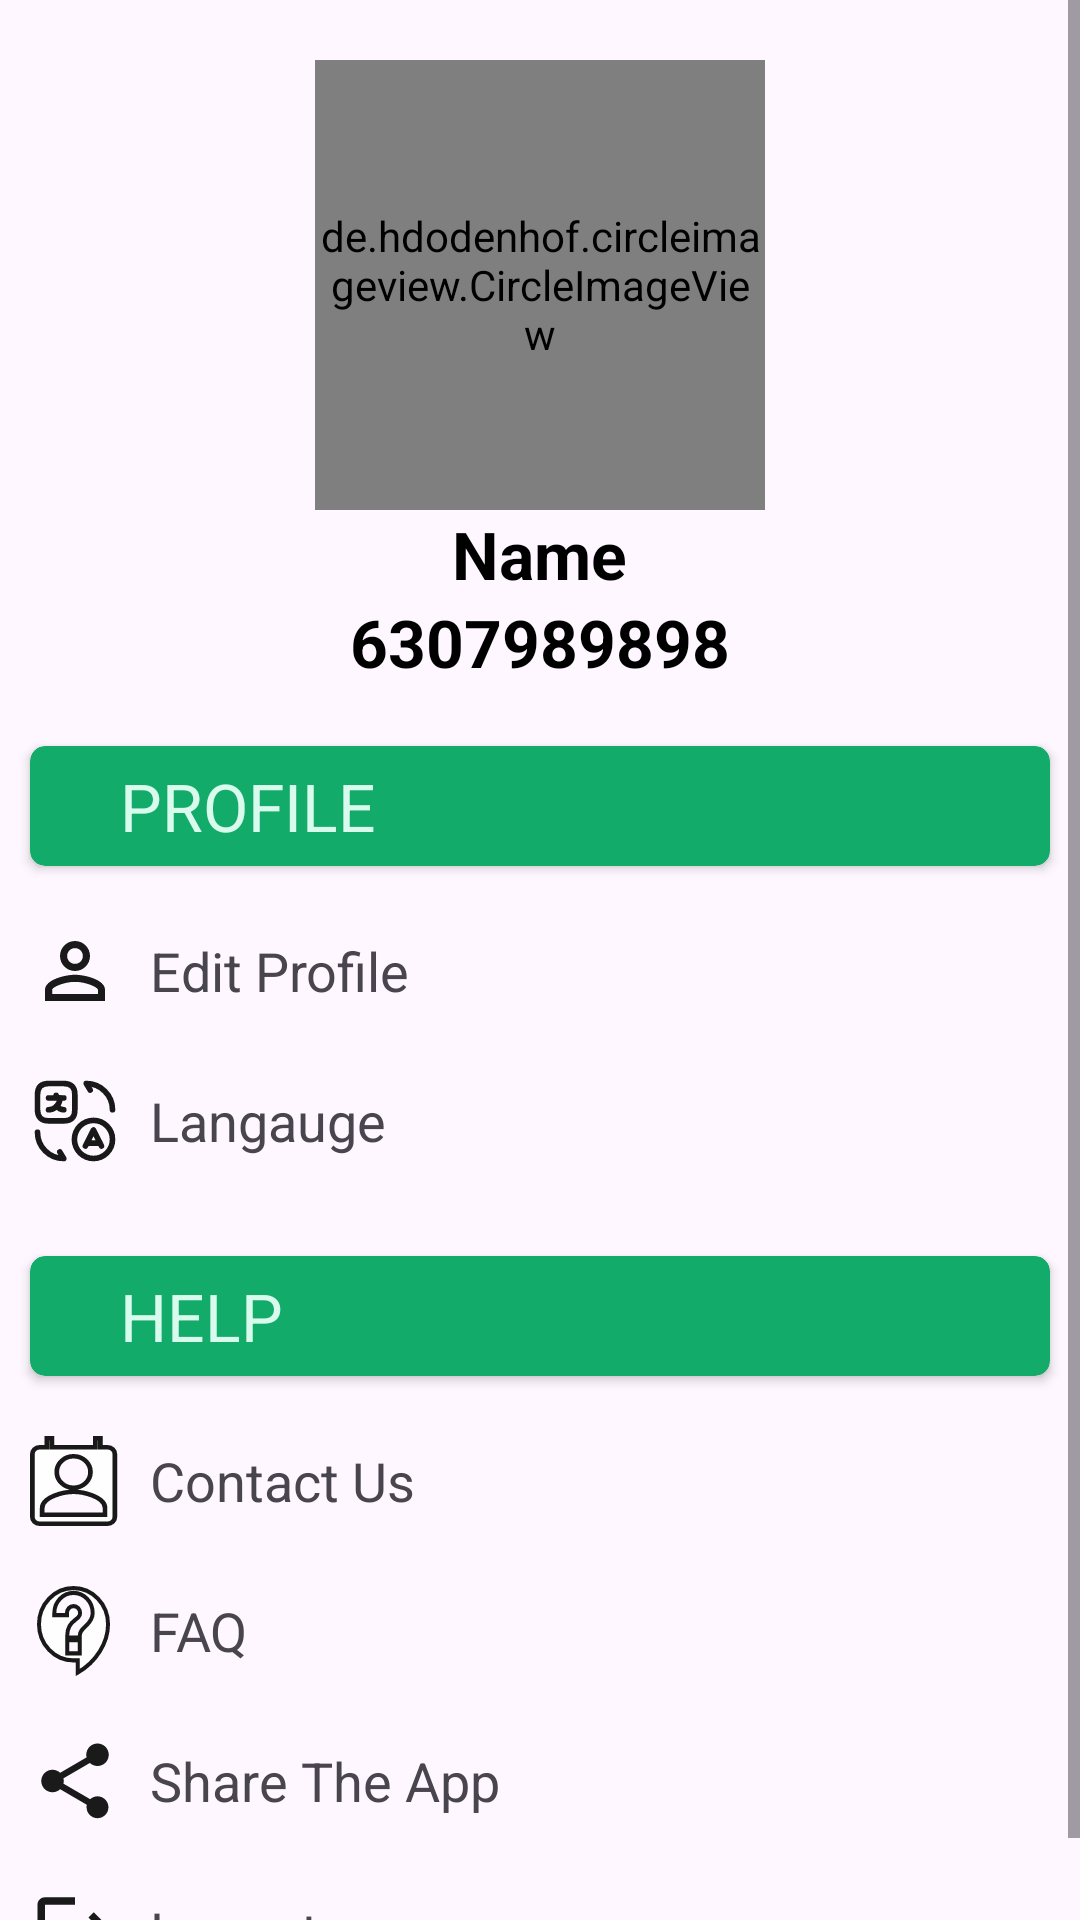

Named icons in this screenshot (1080px×1920px) and their centers, (x,y):
translate: (75,1121)
user: (75,971)
